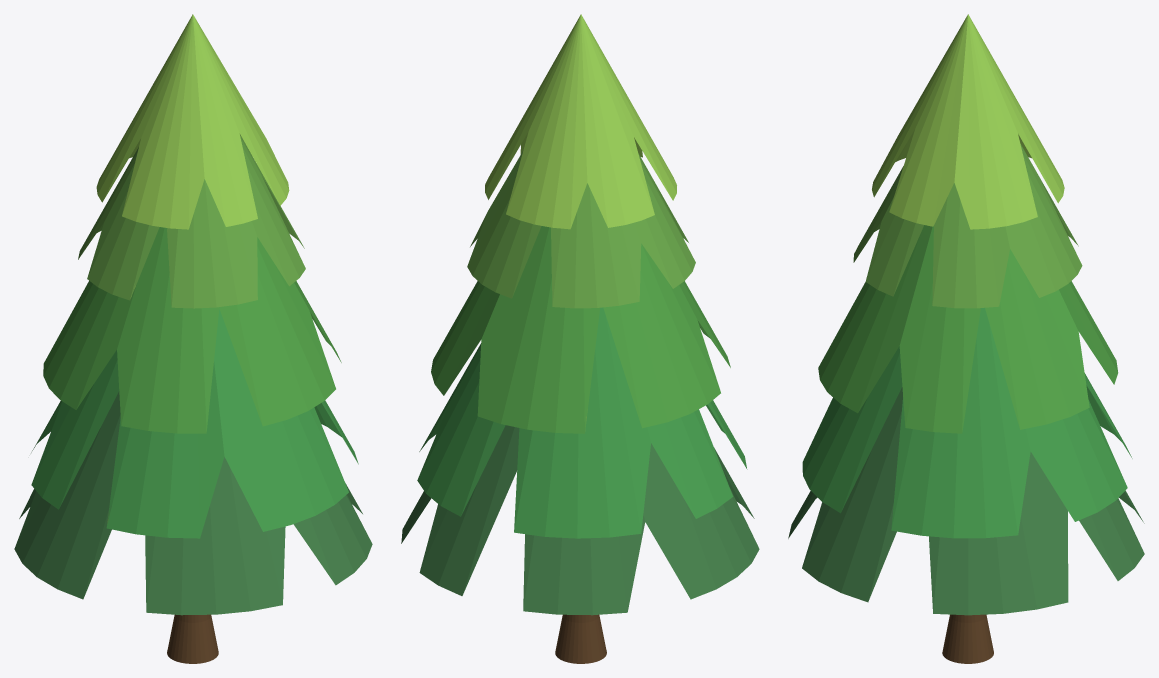
The model's file is detail tree.fbx.
The picture shows the model from 3 angles, left to right: view 1: azimuth 30°, elevation 25°; view 2: azimuth 150°, elevation 25°; view 3: azimuth 270°, elevation 25°; orthographic projection.
Parts seen in each view (by area): view 1: Cone.004; view 2: Cone.004; view 3: Cone.004.
Boxes of the visible parts, x1,y1,x2,y2 form: Cone.004: (14,14,372,663); Cone.004: (401,14,759,663); Cone.004: (788,14,1144,663).
Bounding box in the file's own units: 16.98 × 16.81 × 33.23.
1 material, 1 textured.
